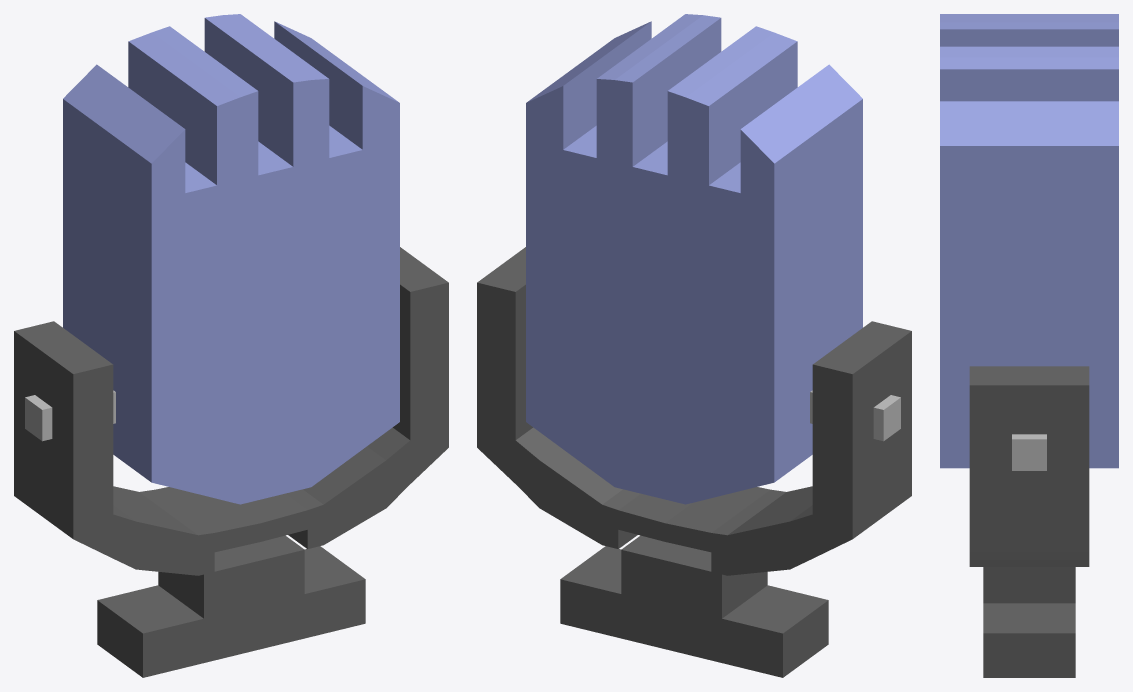
File: uploads_files_2264794_Low_poly_microphone_2.fbx
The picture shows the model from 3 angles, left to right: view 1: azimuth 30°, elevation 25°; view 2: azimuth 150°, elevation 25°; view 3: azimuth 270°, elevation 25°; orthographic projection.
Parts seen in each view (by area): view 1: Low_poly_microphone; view 2: Low_poly_microphone; view 3: Low_poly_microphone.
Boxes of the visible parts, <box> form: Low_poly_microphone: <box>14,14,448,677</box>; Low_poly_microphone: <box>477,14,911,677</box>; Low_poly_microphone: <box>940,14,1118,677</box>.
Bounding box in the file's own units: 228 × 320 × 88.63.
